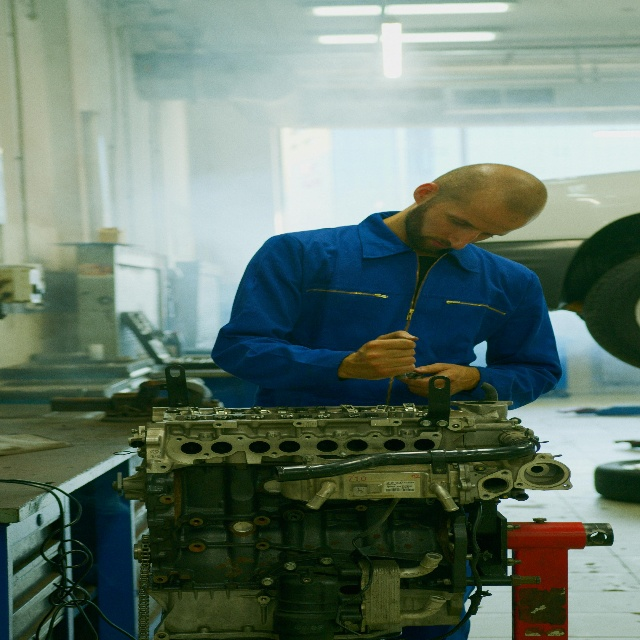Sin_guantes: (352, 330, 418, 380), (401, 362, 461, 399)
